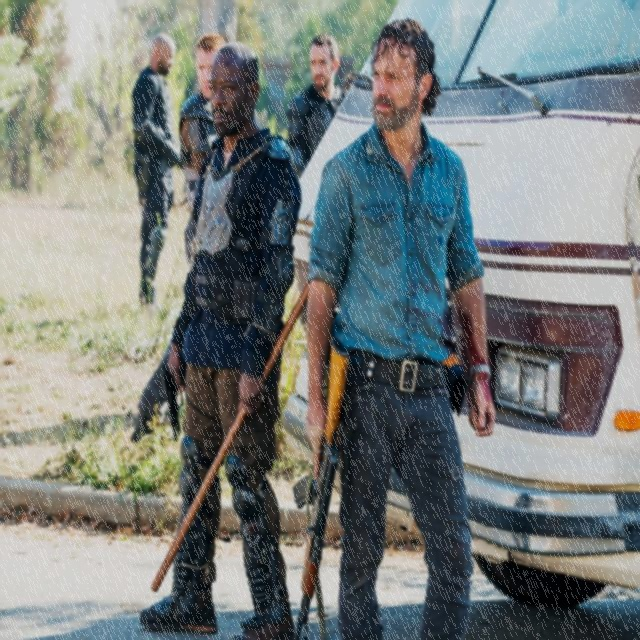pessoa: (301, 13, 498, 640), (134, 38, 305, 640), (130, 28, 229, 446), (130, 30, 186, 308), (284, 31, 350, 178), (342, 67, 355, 93)
